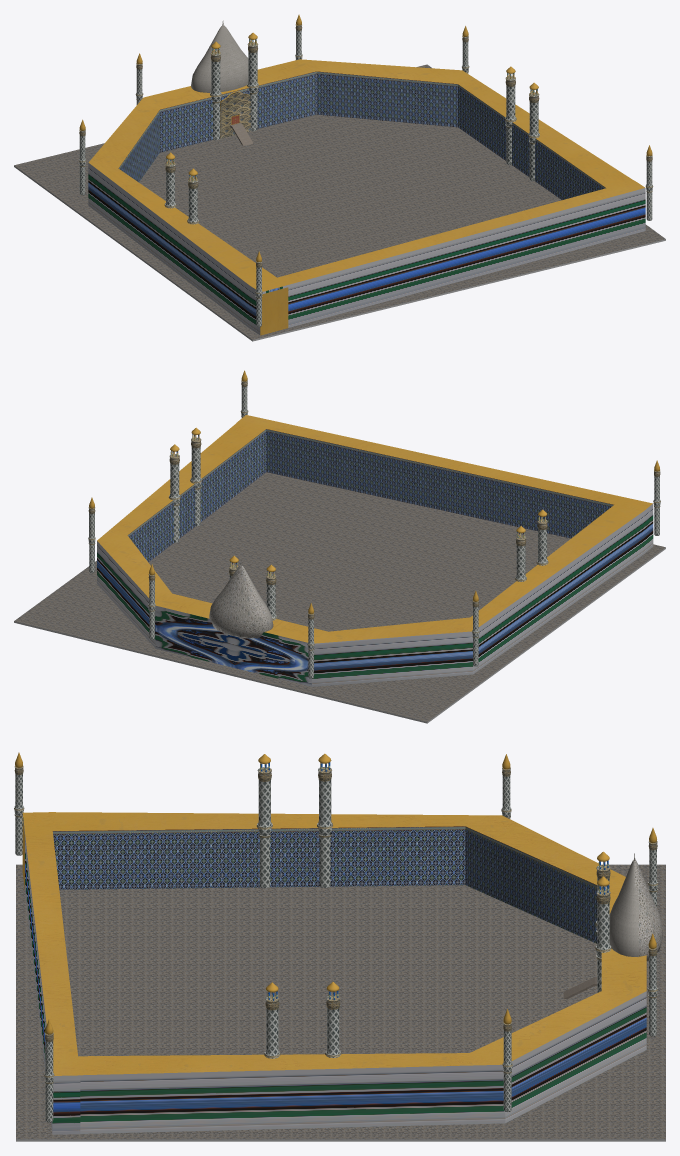
File: world3.1Old.fbx
The picture shows the model from 3 angles, top to bottom: view 1: azimuth 30°, elevation 25°; view 2: azimuth 150°, elevation 25°; view 3: azimuth 270°, elevation 25°; orthographic projection. The views are drawn at different scales.
Visible parts, largest first — view 1: pCube3, floor1, head, pCylinder51, pillar, pillar7, pillar9, pillar8; view 2: pCube3, floor1, head, pillar9, pillar8; view 3: floor1, pCube3, head, pillar11, pillar10, pillar7, pillar9, pillar8, small_pillar3, small_pillar2, small_pillar1, small_pillar4.
Part boxes in pixels (x1,y1,x2,y2): pCube3: (88,59,645,335); floor1: (14,64,665,341); head: (191,20,248,92); pCylinder51: (220,91,250,138); pillar: (210,51,221,140); pillar7: (247,42,258,131); pillar9: (528,92,539,181); pillar8: (504,76,516,164); pCube3: (97,415,653,686); floor1: (14,472,665,723); head: (209,560,273,638); pillar9: (190,437,202,526); pillar8: (168,454,180,542); floor1: (16,864,665,1141); pCube3: (22,812,646,1134); head: (609,853,662,960); pillar11: (317,767,333,887); pillar10: (256,767,272,888); pillar7: (595,889,611,992); pillar9: (264,995,280,1058); pillar8: (325,995,341,1057); small_pillar3: (44,1032,54,1122); small_pillar2: (502,1022,512,1112); small_pillar1: (647,947,657,1036); small_pillar4: (14,766,24,855).
Size of what is drawn, in the model's own units: 268 by 67.09 by 269.
